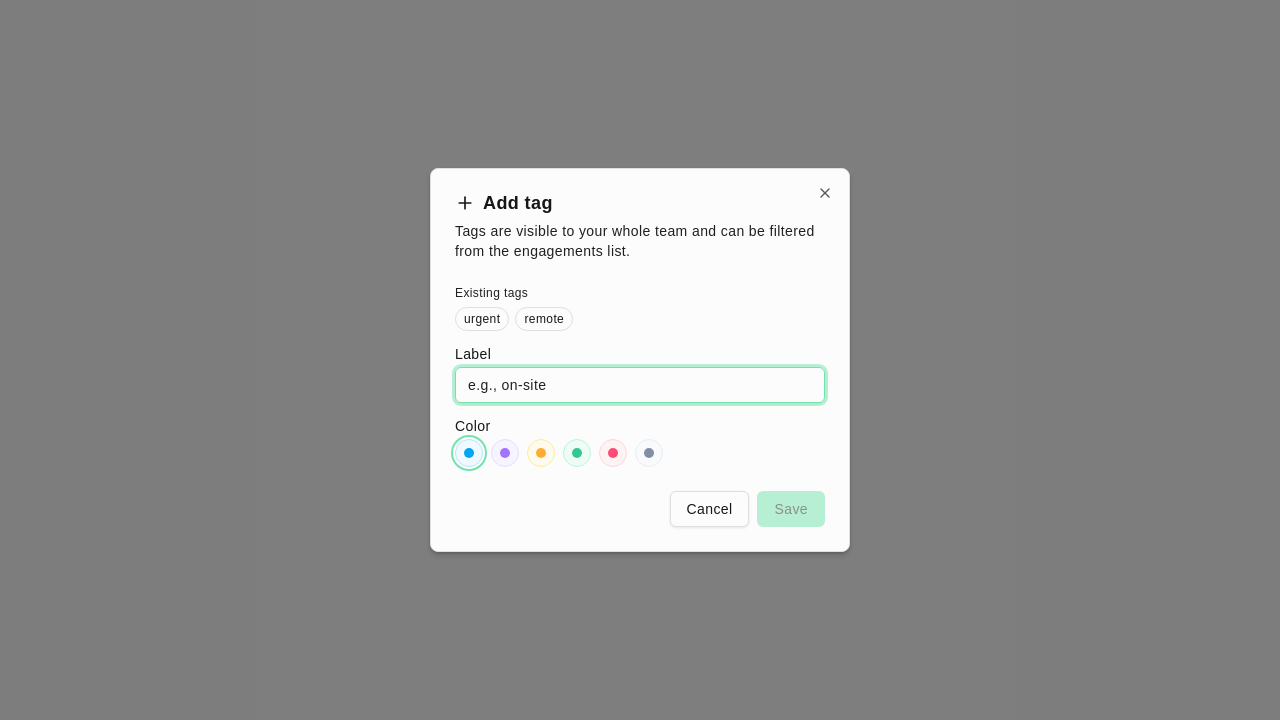
it: <AddTagDialog> › populates the input when a suggestion chip is clicked
Click the button "urgent".
click(482, 319)  # box [455,307,509,331]
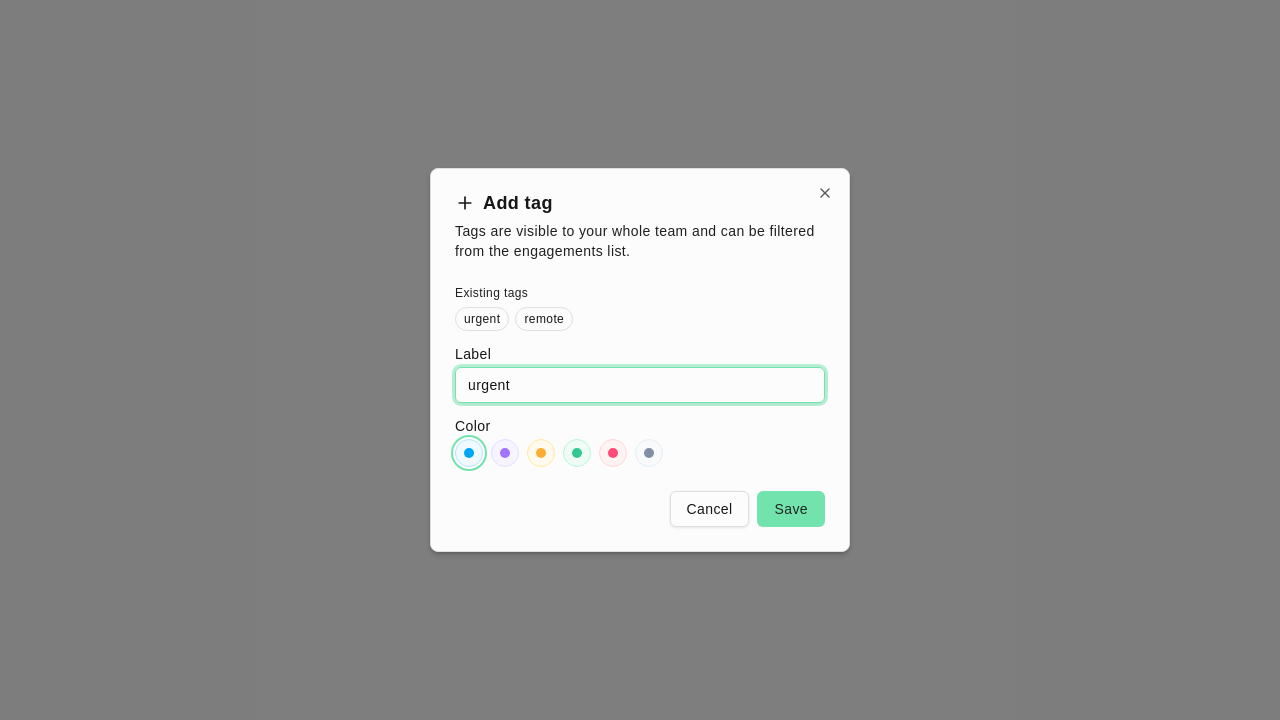
Now the field labelled "Label" holds "urgent", box [455,367,825,403]
